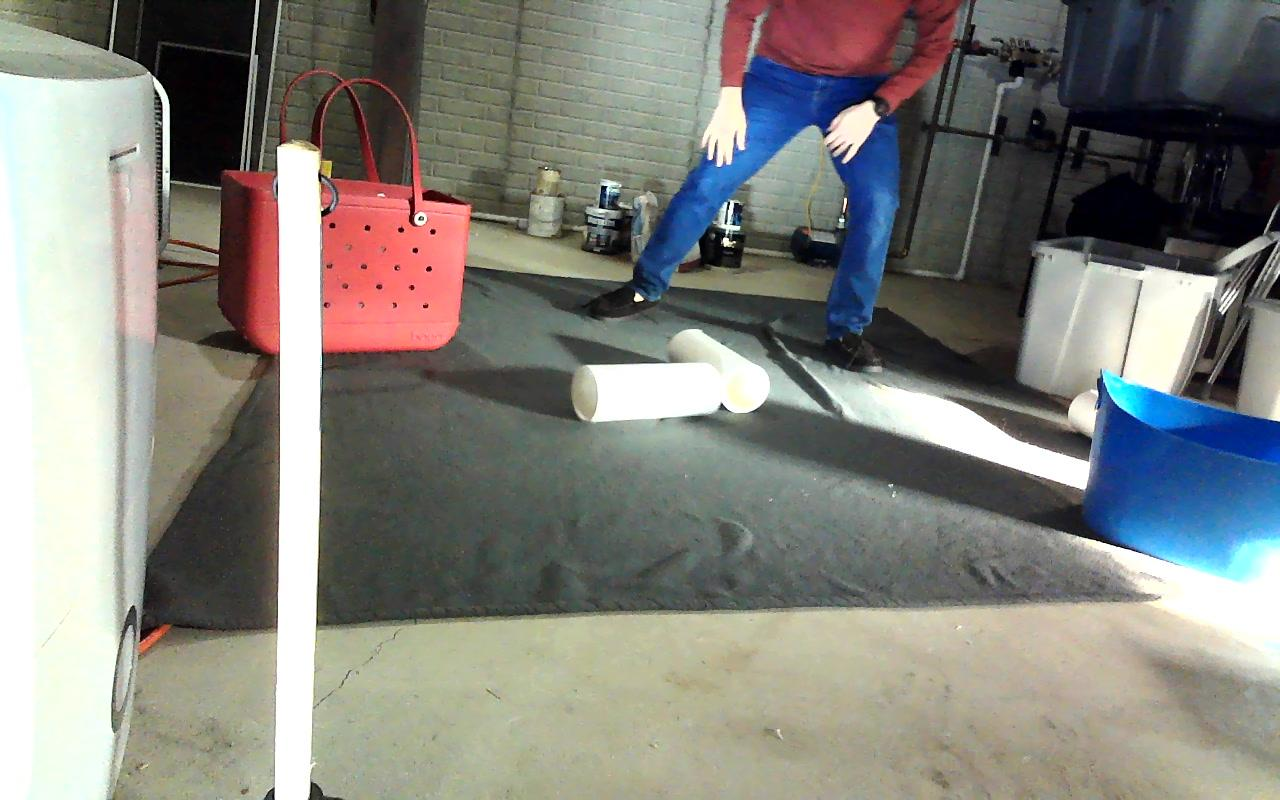coral: (571, 362, 724, 423), (667, 331, 770, 412)
